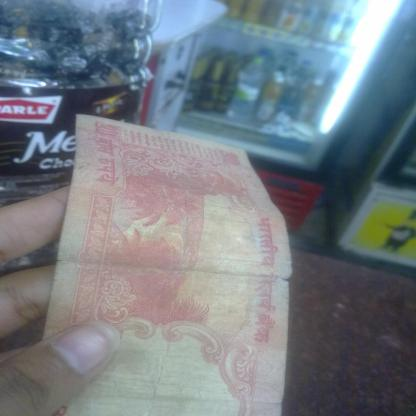Old20Back: (42, 113, 294, 416)
